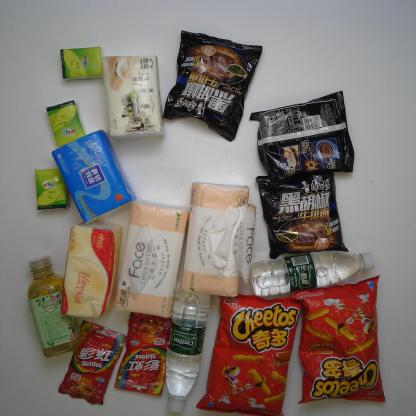Candy: (57, 318, 127, 406), (113, 312, 172, 396)
Drink: (164, 286, 212, 414), (23, 255, 82, 358), (249, 251, 374, 298)
Instant Noodles: (162, 28, 262, 143), (247, 90, 355, 178), (256, 168, 352, 258)
Puffed Food: (195, 294, 303, 413), (289, 275, 386, 406)
Tissue: (113, 199, 188, 319), (181, 182, 255, 298), (51, 128, 136, 224), (59, 223, 122, 318), (100, 54, 164, 140), (46, 100, 85, 148), (59, 46, 105, 80), (34, 167, 68, 211)
